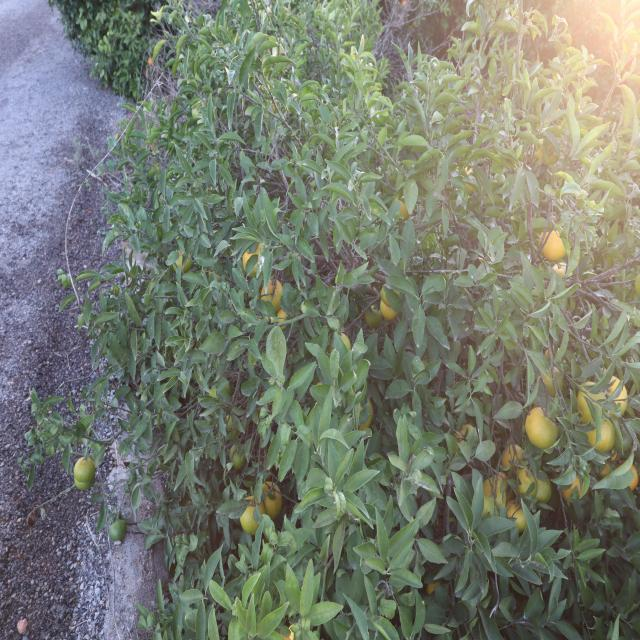Jeruk Belum Matang: (526, 408, 560, 450), (575, 381, 607, 422), (240, 497, 268, 535), (588, 418, 617, 452), (260, 481, 282, 518), (534, 466, 553, 504), (260, 278, 284, 308), (516, 468, 538, 498), (508, 501, 530, 531), (75, 455, 95, 483), (485, 477, 507, 502), (481, 495, 502, 521), (107, 515, 126, 540), (172, 250, 192, 272), (330, 333, 350, 354), (231, 445, 247, 469), (366, 307, 381, 327), (74, 475, 94, 489)
Jeruk Sudah Matang: (541, 229, 566, 261), (610, 376, 630, 414), (243, 242, 264, 274), (560, 475, 583, 501), (502, 444, 523, 467), (624, 463, 640, 493), (392, 196, 410, 222), (464, 167, 474, 196), (381, 301, 396, 319)
